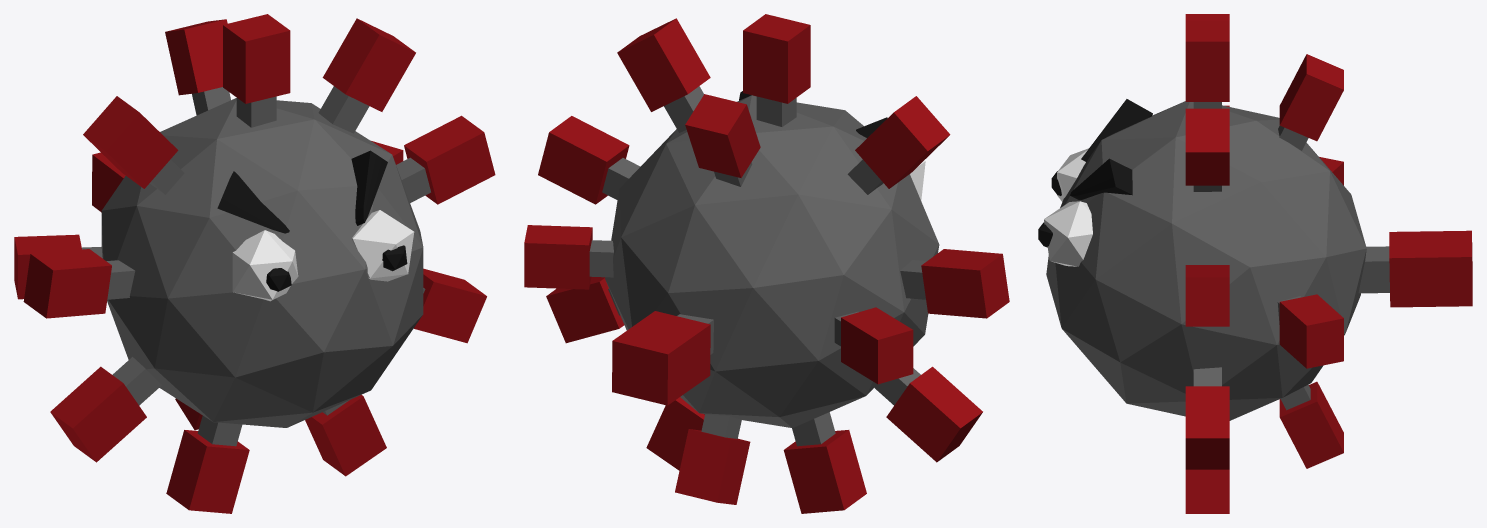
Rendered from coronaComum.fbx.
3 renders of one model, left to right at view 1: azimuth 30°, elevation 25°; view 2: azimuth 150°, elevation 25°; view 3: azimuth 270°, elevation 25°, orthographic. The views are drawn at different scales.
Parts seen in each view (by area): view 1: Cube; view 2: Cube; view 3: Cube.
Part boxes in pixels (<box>): Cube: <box>14,14,495,513</box>; Cube: <box>524,14,1009,513</box>; Cube: <box>1038,14,1472,513</box>.
Size of the model in its own units: 364 by 363 by 315.
